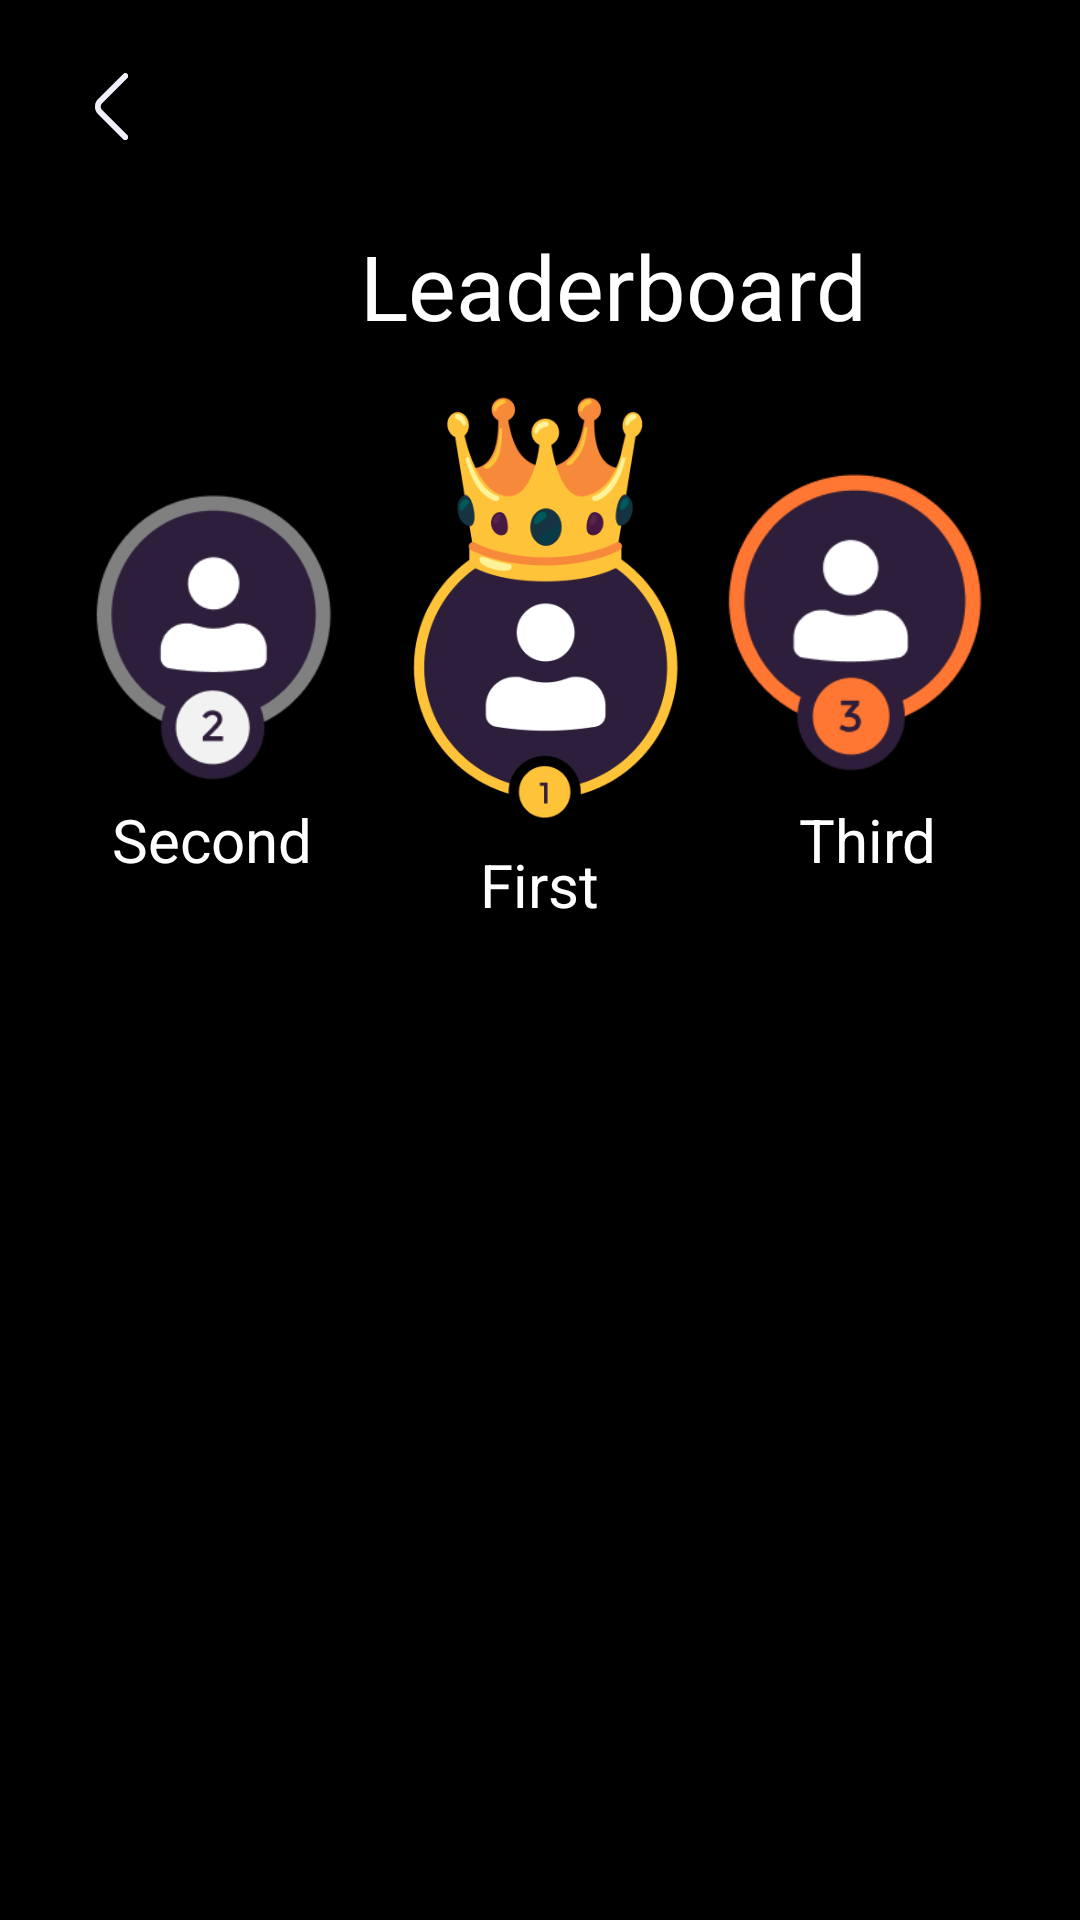

Icons on this 1080 × 1920 Android screen, each with its box as (x1, y1, x2, y2):
back: (95, 73, 128, 140)
